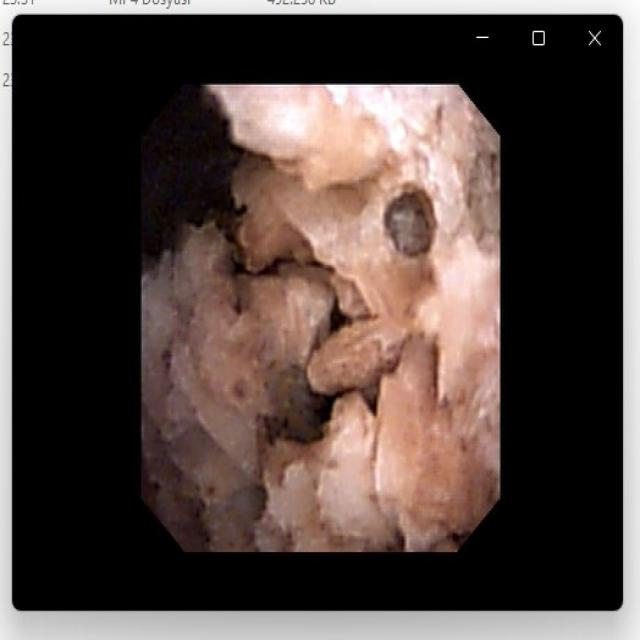stone: (150, 92, 494, 543)
